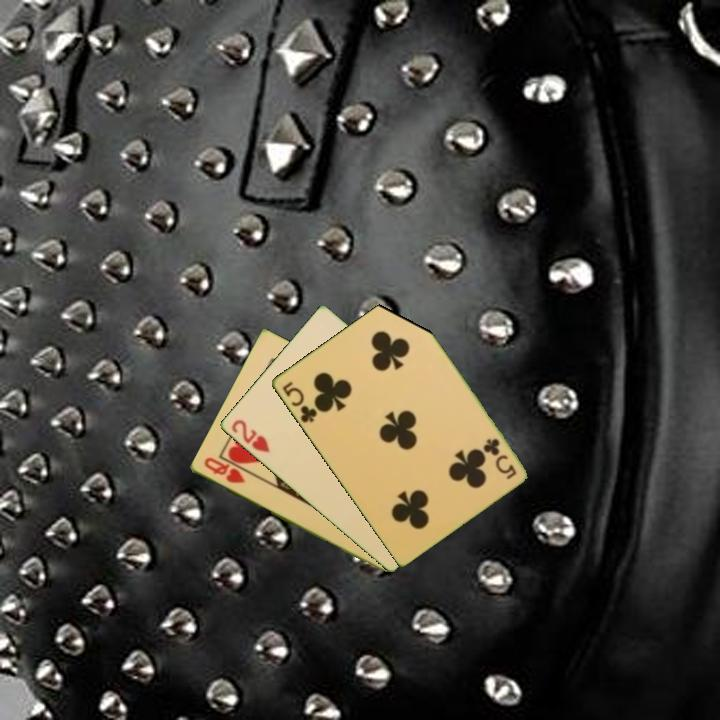2h: (228, 416, 272, 456)
5c: (278, 378, 320, 426), (480, 435, 519, 482)
Qh: (200, 454, 248, 487)
